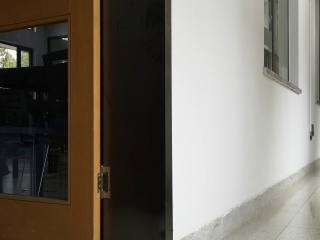room: (1, 2, 178, 240)
